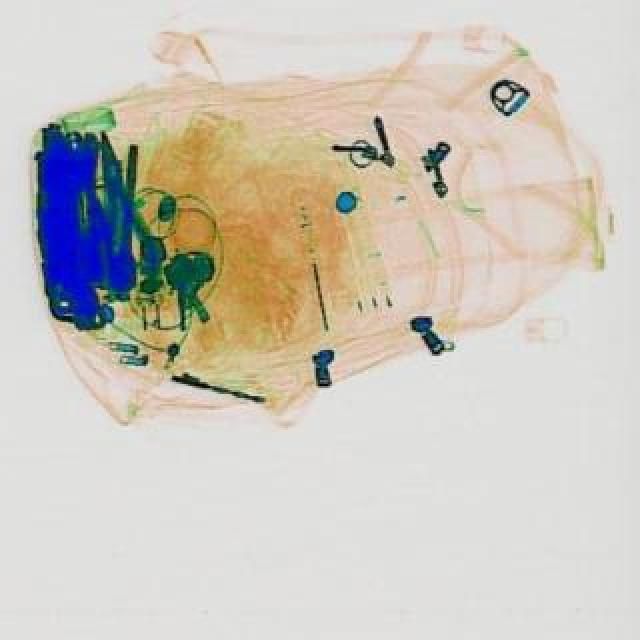wrench: (80, 128, 168, 296), (82, 146, 154, 298)
